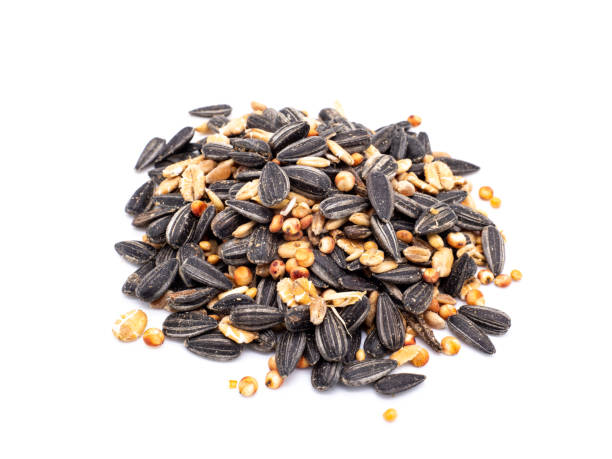seed: (106, 84, 531, 417)
